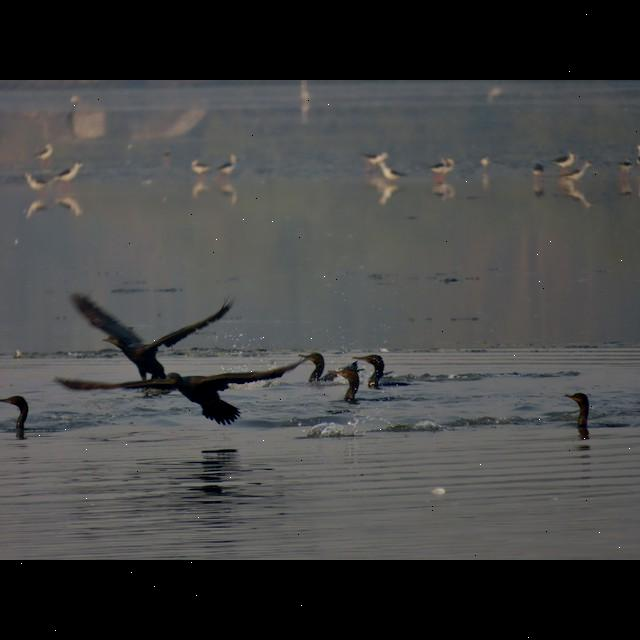cormorant: (56, 358, 310, 427), (0, 392, 36, 440), (566, 387, 596, 437)
